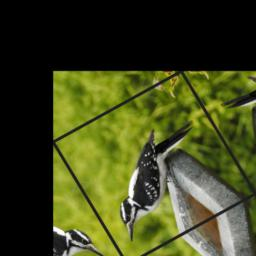Woodpecker: (83, 110, 234, 245)
